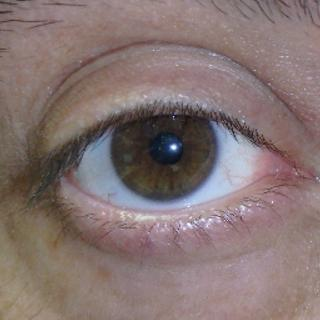iris: (110, 92, 218, 200)
